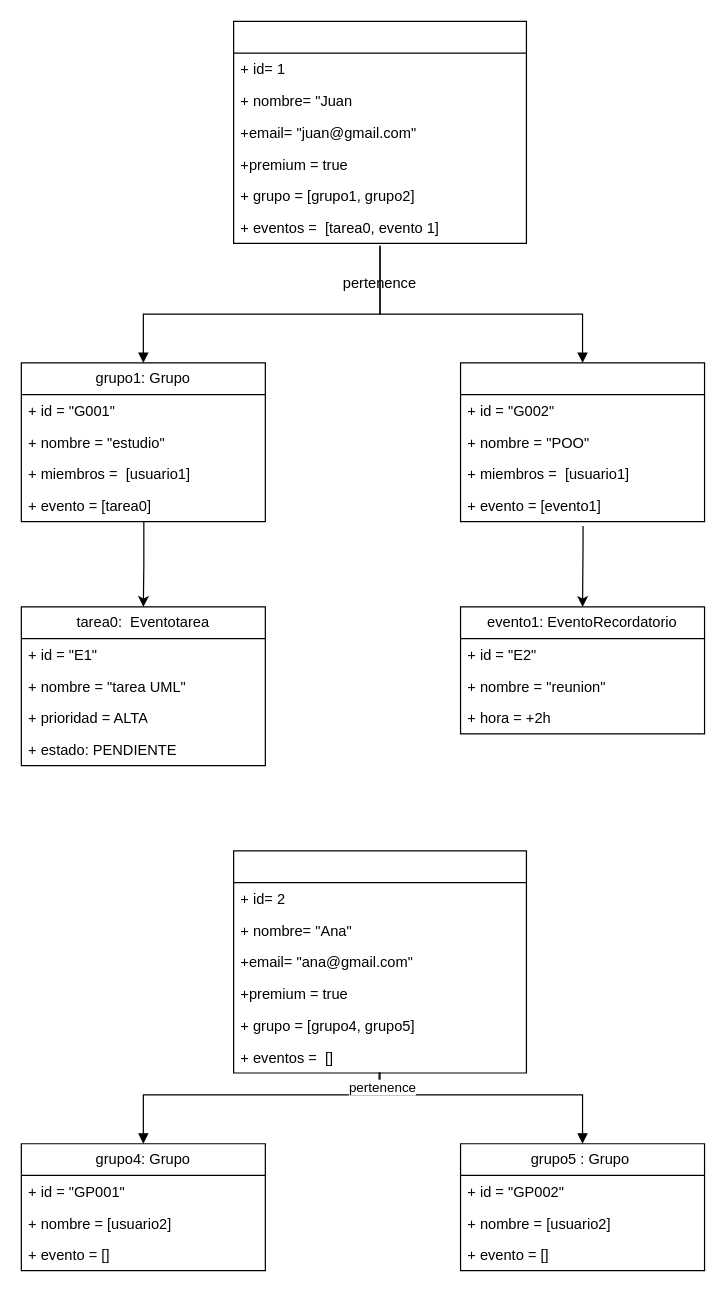
This 726x1296 diagram has some shape labels left out. The shapes that lost their labels are listed below. From the top down, each one's box as (x1, y1, x2, y2) in pixels, then its label:
(232, 20, 526, 243): usuario1 = usuarioPremium
(459, 362, 705, 522): grupo2: Grupo
(232, 850, 526, 1073): usuario2 = usuarioPremium
